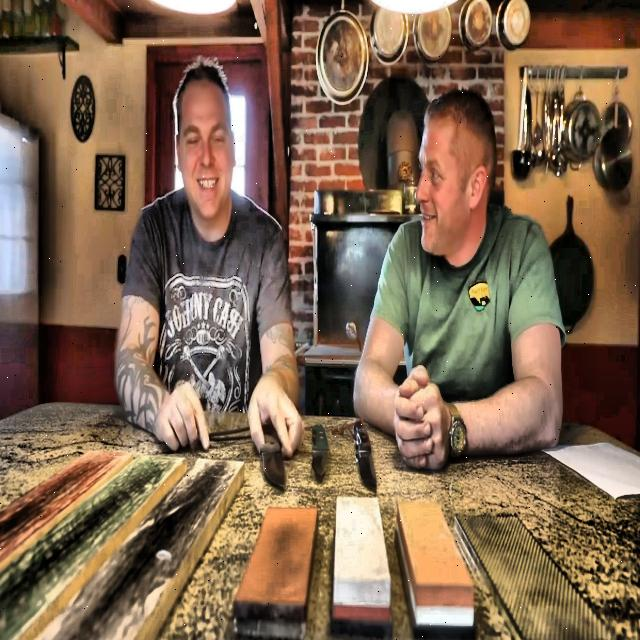knife: (353, 420, 378, 497), (260, 423, 286, 492), (310, 424, 328, 478)
